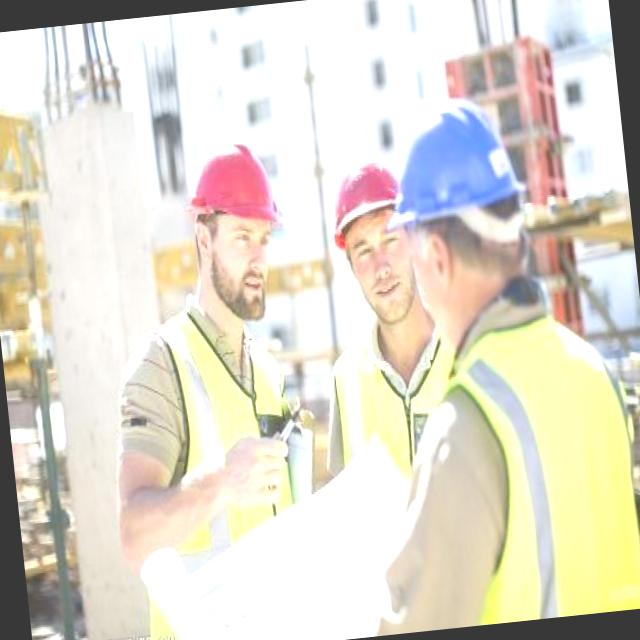helmet: (382, 96, 532, 227), (184, 130, 288, 232), (318, 152, 410, 238)
no-goggles: (210, 206, 288, 263), (337, 215, 408, 272)
vest: (439, 321, 640, 626), (152, 300, 308, 545), (337, 334, 472, 494)
